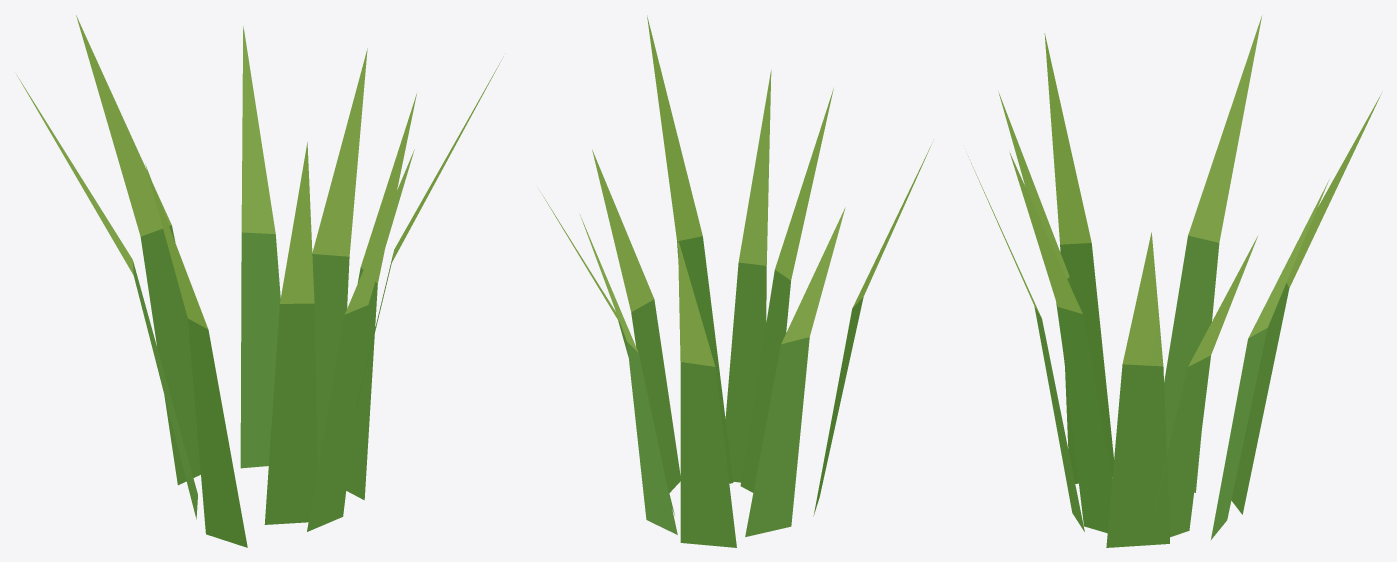
Rendered from grass_tuft_fitto.glb.
3 views of the same model, side by side, from view 1: azimuth 30°, elevation 25°; view 2: azimuth 150°, elevation 25°; view 3: azimuth 270°, elevation 25° (orthographic). The views are drawn at different scales.
Visible parts, largest first — view 1: grass_tuft_fitto; view 2: grass_tuft_fitto; view 3: grass_tuft_fitto.
Boxes of the visible parts, x1,y1,x2,y2 form: grass_tuft_fitto: (17, 15, 505, 547); grass_tuft_fitto: (539, 15, 932, 547); grass_tuft_fitto: (968, 15, 1382, 547).
Size of the model in its own units: 3.48 by 4.32 by 3.74.
